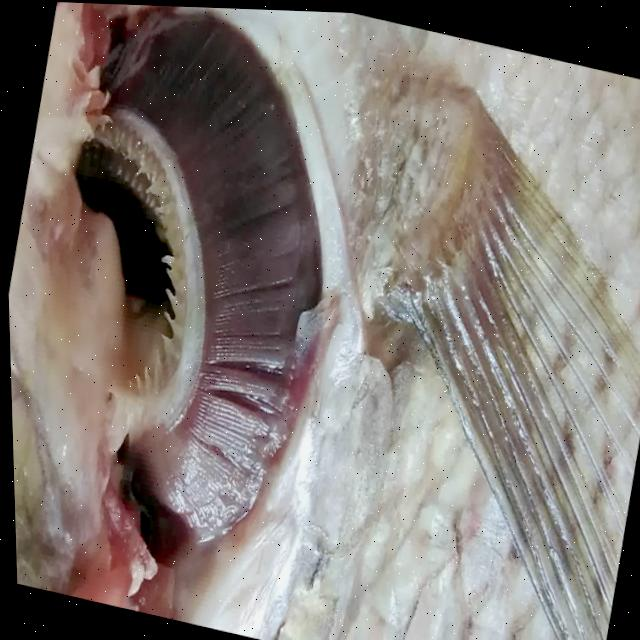Non-Fresh: (30, 1, 377, 582)
